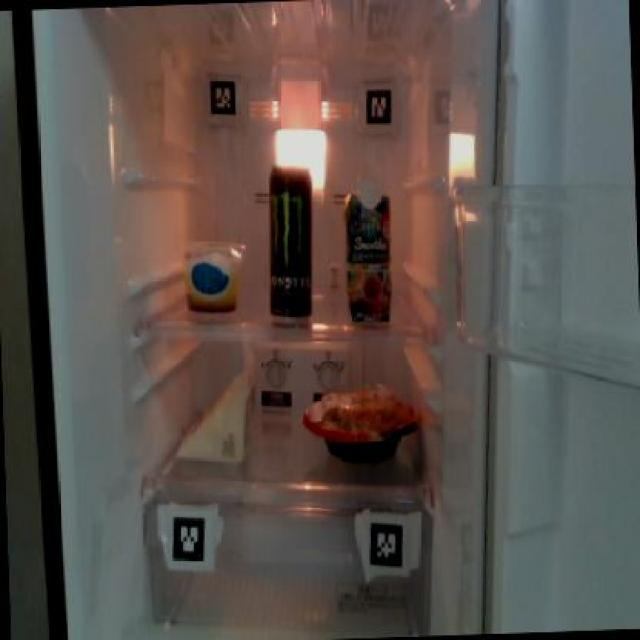bento: (299, 387, 423, 467)
energy_drink: (263, 160, 315, 323)
pudding: (181, 234, 247, 315)
sandwich: (168, 353, 260, 467)
smoothie: (341, 171, 396, 329)
